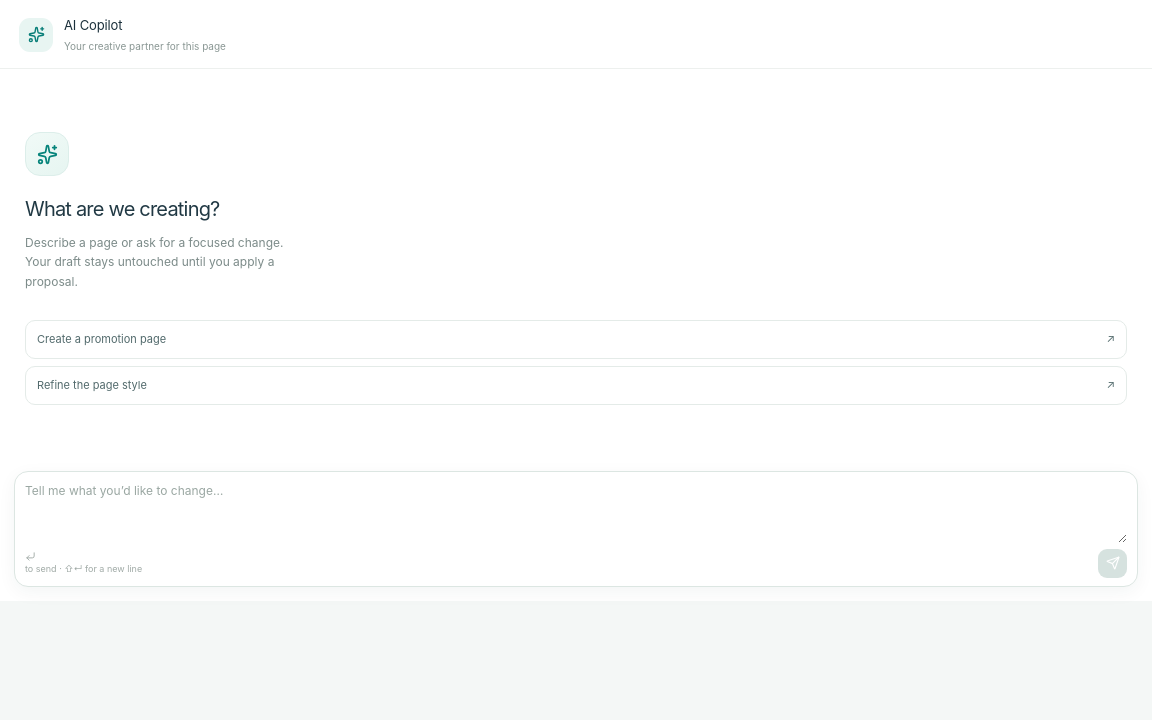
Test: CopilotPanel › discards a stale proposal when the page changes while generation is in progress
The image size is (1152, 720).
Type "Make a page" into the text box named "Describe the page or change you want" at (576, 512), box [25, 482, 1127, 542]
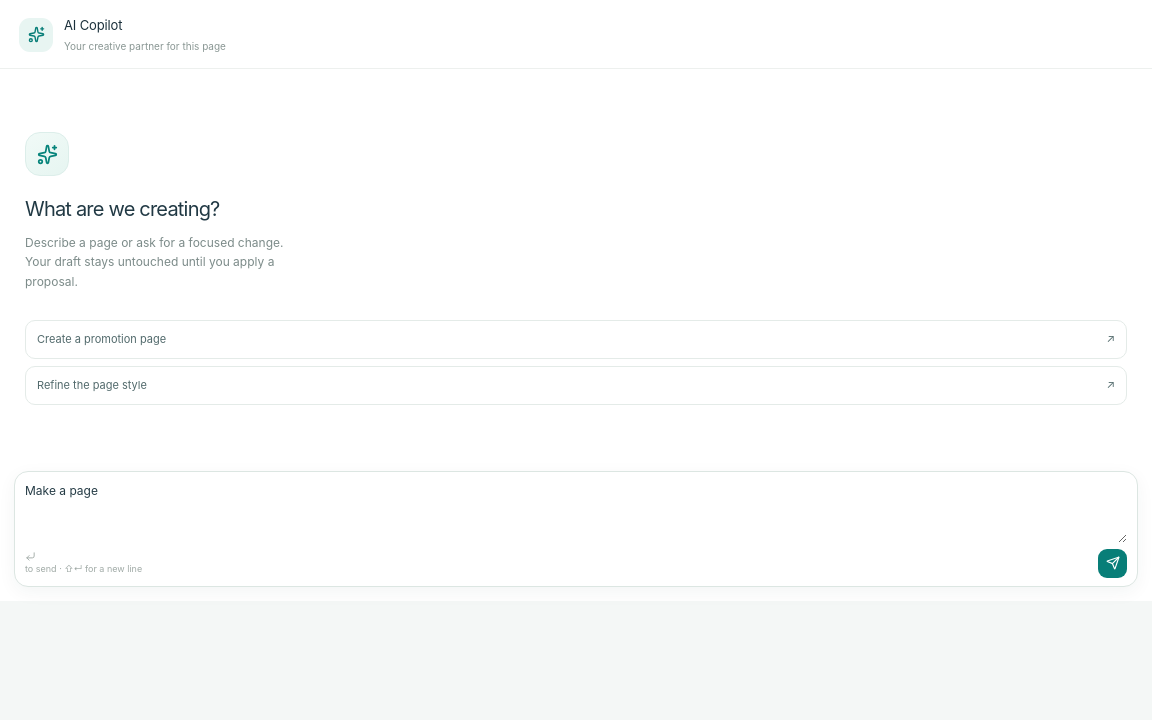
Click the button named "Send message" at (1112, 563), box [1098, 548, 1127, 578]
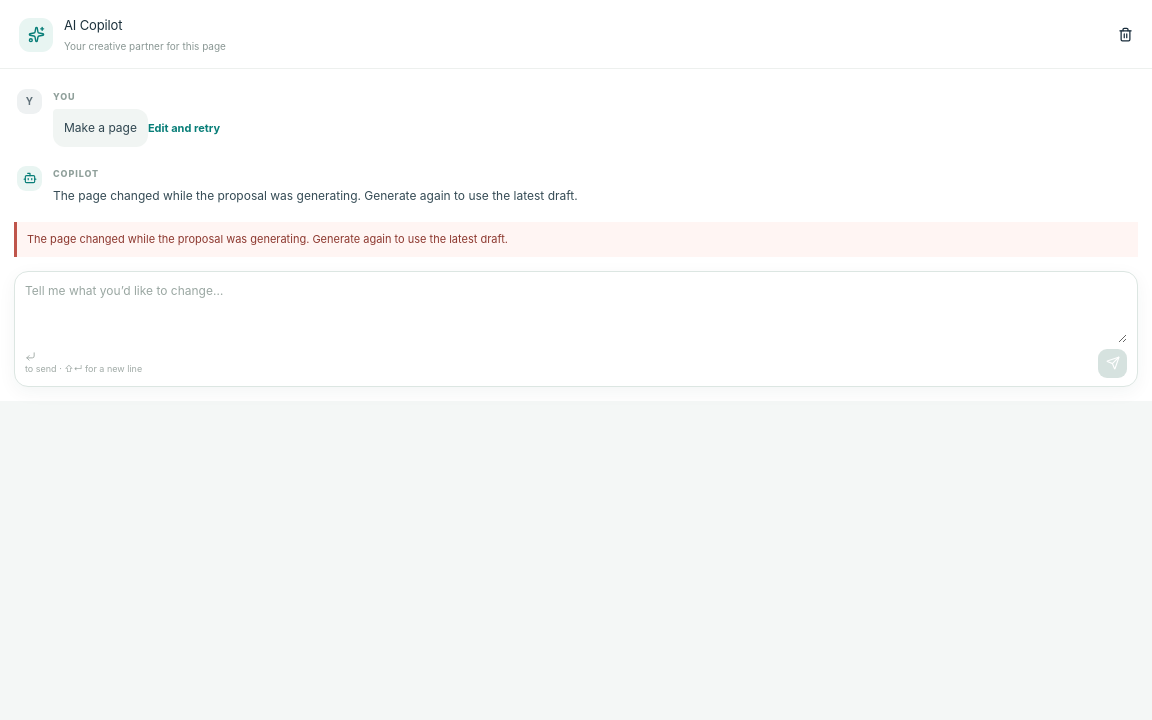
Now the message shows "page changed while the proposal was generating", box [27, 232, 508, 246]
